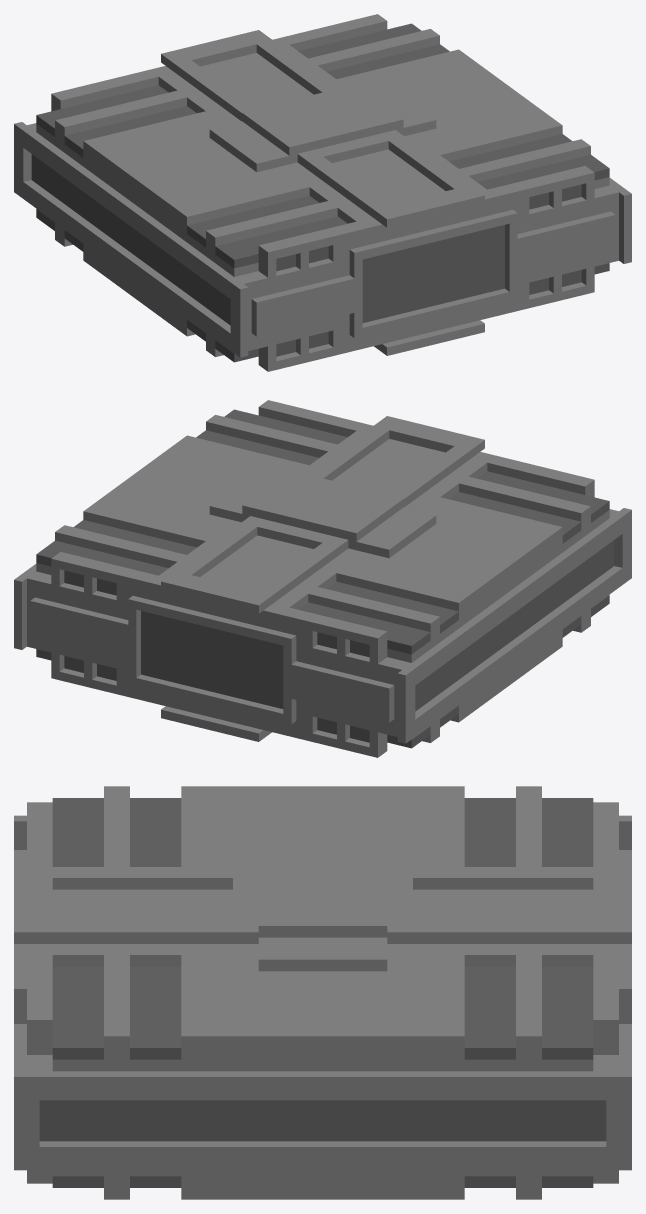
File: alien_saucer2a.obj
3 views of the same model, one above another, from view 1: azimuth 30°, elevation 25°; view 2: azimuth 150°, elevation 25°; view 3: azimuth 270°, elevation 25° (orthographic). The views are drawn at different scales.
Bounding box in the file's own units: 48 × 18 × 48.
